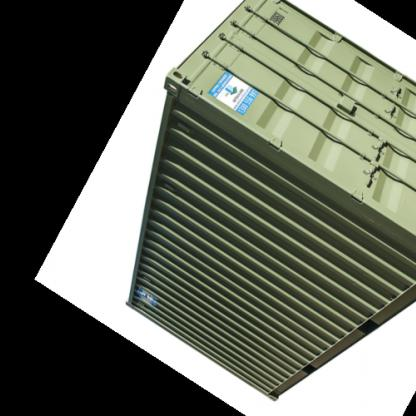Damage: (348, 212, 386, 238)
